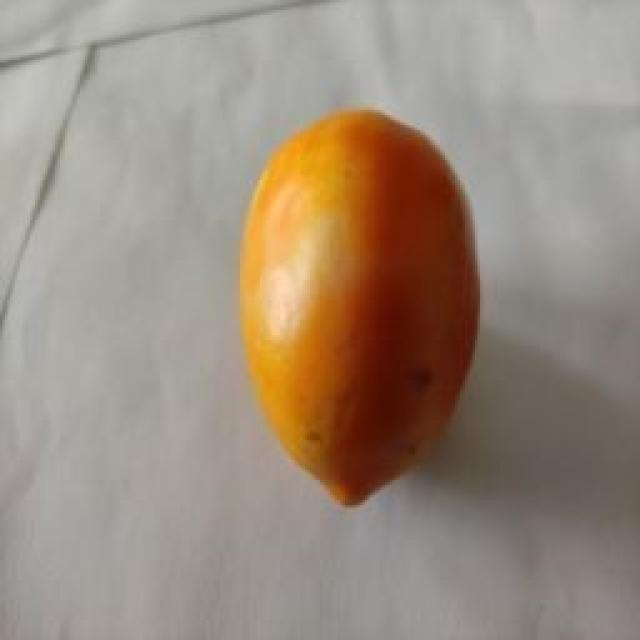unripe: (220, 140, 410, 442)
